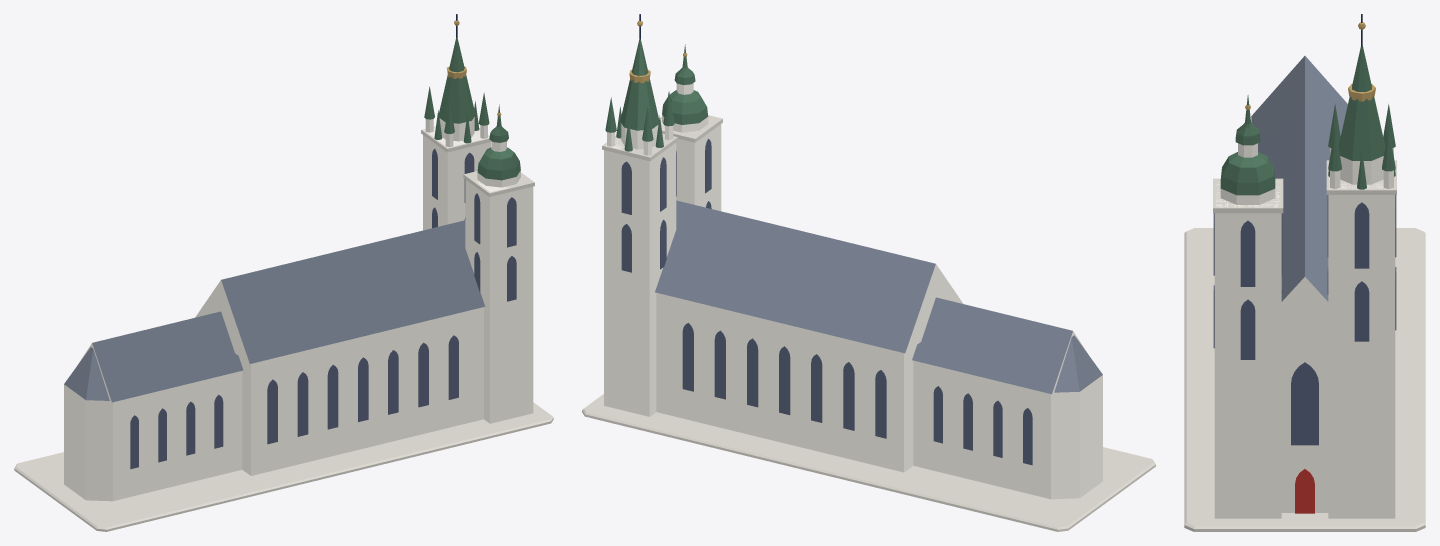
File: krakow.glb
3 renders of one model, left to right at view 1: azimuth 30°, elevation 25°; view 2: azimuth 150°, elevation 25°; view 3: azimuth 270°, elevation 25°, orthographic. The views are drawn at different scales.
Parts seen in each view (by area): view 1: model; view 2: model; view 3: model.
Boxes of the visible parts, x1,y1,x2,y2 form: model: (14,14,553,531); model: (582,14,1155,531); model: (1184,14,1425,531).
Size of the model in its own units: 106 by 81.5 by 36.
